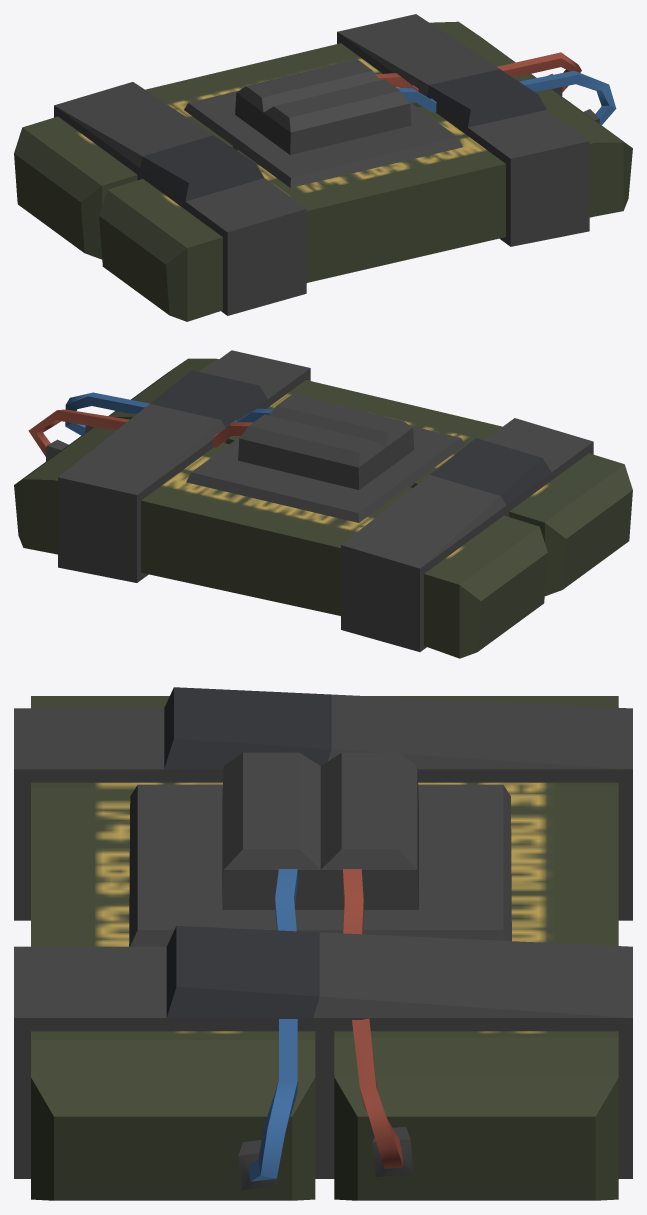
The model's file is SM_Prop_C4_01.fbx.
The picture shows the model from 3 angles, top to bottom: view 1: azimuth 30°, elevation 25°; view 2: azimuth 150°, elevation 25°; view 3: azimuth 270°, elevation 25°; orthographic projection. The views are drawn at different scales.
Parts seen in each view (by area): view 1: SM_Prop_C4_01; view 2: SM_Prop_C4_01; view 3: SM_Prop_C4_01.
Part boxes in pixels (x1,y1,x2,y2): SM_Prop_C4_01: [14, 14, 632, 321]; SM_Prop_C4_01: [14, 350, 632, 658]; SM_Prop_C4_01: [14, 687, 632, 1200].
Size of the model in its own units: 57.54 by 13.41 by 34.03.
